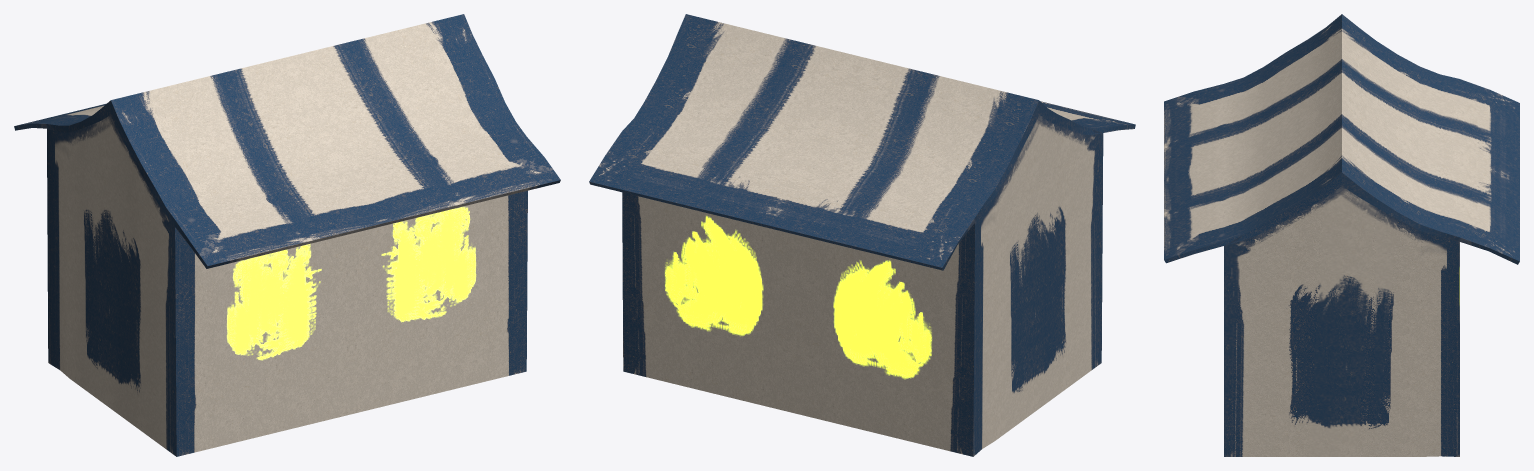
Rendered from CASA 1 (2).fbx.
3 views of the same model, side by side, from view 1: azimuth 30°, elevation 25°; view 2: azimuth 150°, elevation 25°; view 3: azimuth 270°, elevation 25° (orthographic). The views are drawn at different scales.
Parts seen in each view (by area): view 1: casa 1; view 2: casa 1; view 3: casa 1.
Part boxes in pixels (x1=…): casa 1: x1=14, y1=14, x2=560, y2=456; casa 1: x1=589, y1=14, x2=1135, y2=456; casa 1: x1=1164, y1=14, x2=1519, y2=456.
Bounding box in the file's own units: 540 × 453 × 512.
Materials: 1 (1 with a texture image).
